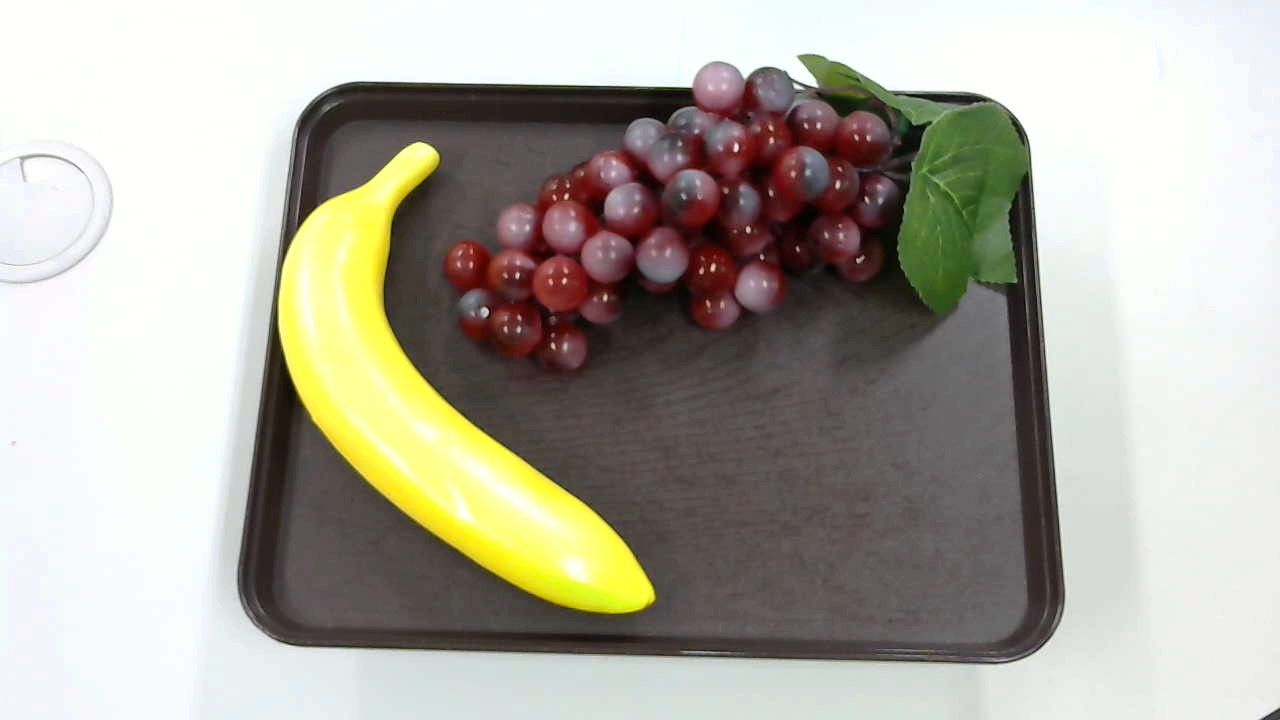banana: (268, 137, 659, 617)
grape: (442, 52, 1024, 378)
